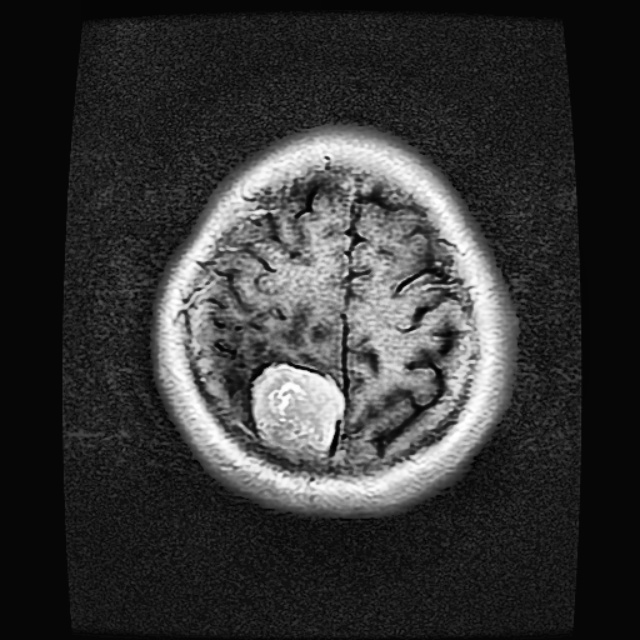Pituitary: (250, 363, 345, 460)
